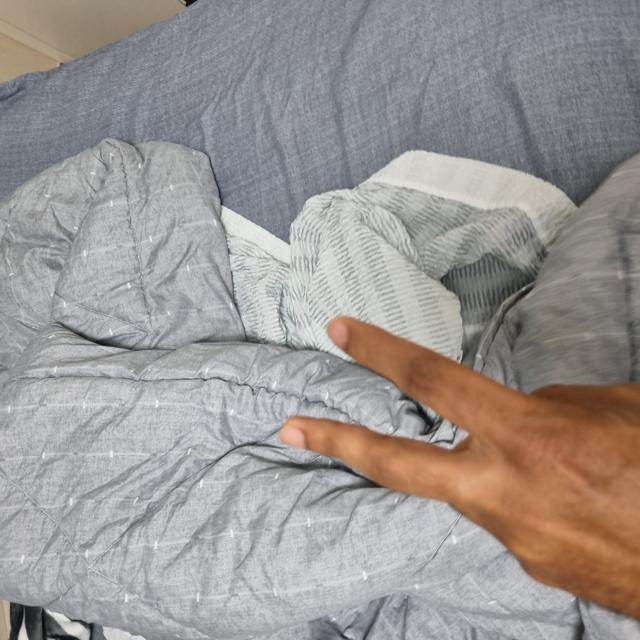Scissors: (9, 284, 322, 638)
